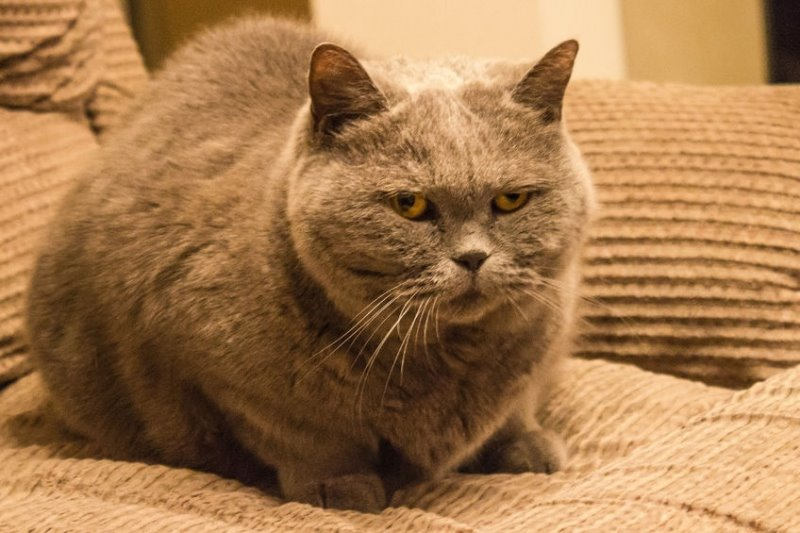cat: (16, 12, 603, 521)
cat-face: (263, 22, 617, 358)
